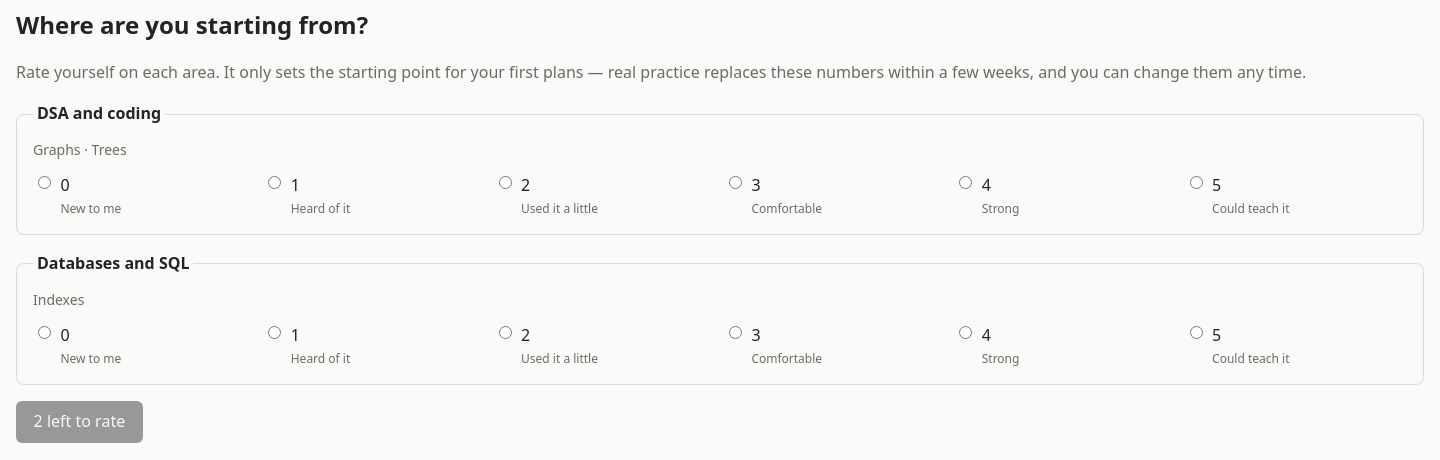
Onboarding › cannot be saved until every area is rated
Expected: the button "2 left to rate" is disabled, [16,401,143,442]
Click the 1st radio button labelled "3 Comfortable" at coordinates (736, 183), box [729,176,742,189]
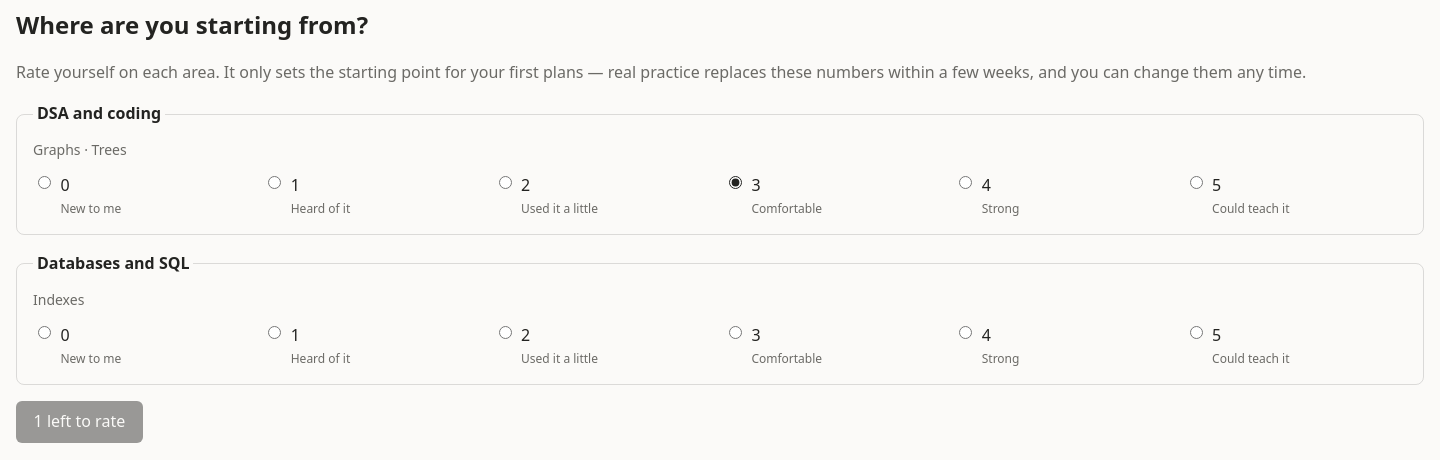
Expected: the button "1 left to rate" is disabled, [16,401,143,442]
Click the 2nd radio button labelled "4 Strong" at coordinates (966, 333), box [959,326,972,339]
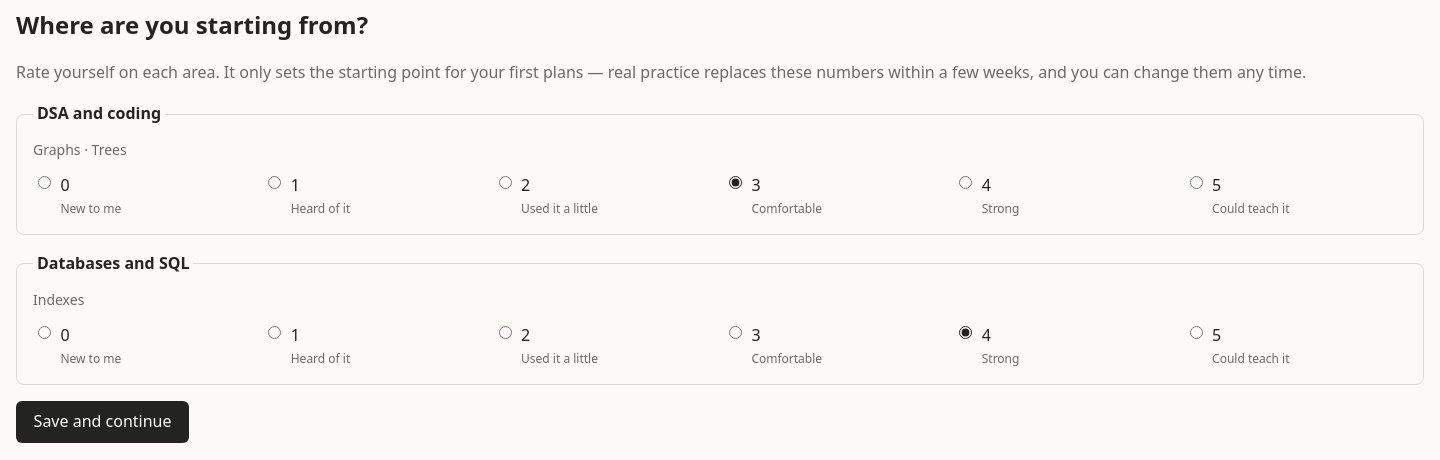
Expected: the button "Save and continue" is enabled, [16,401,189,442]
